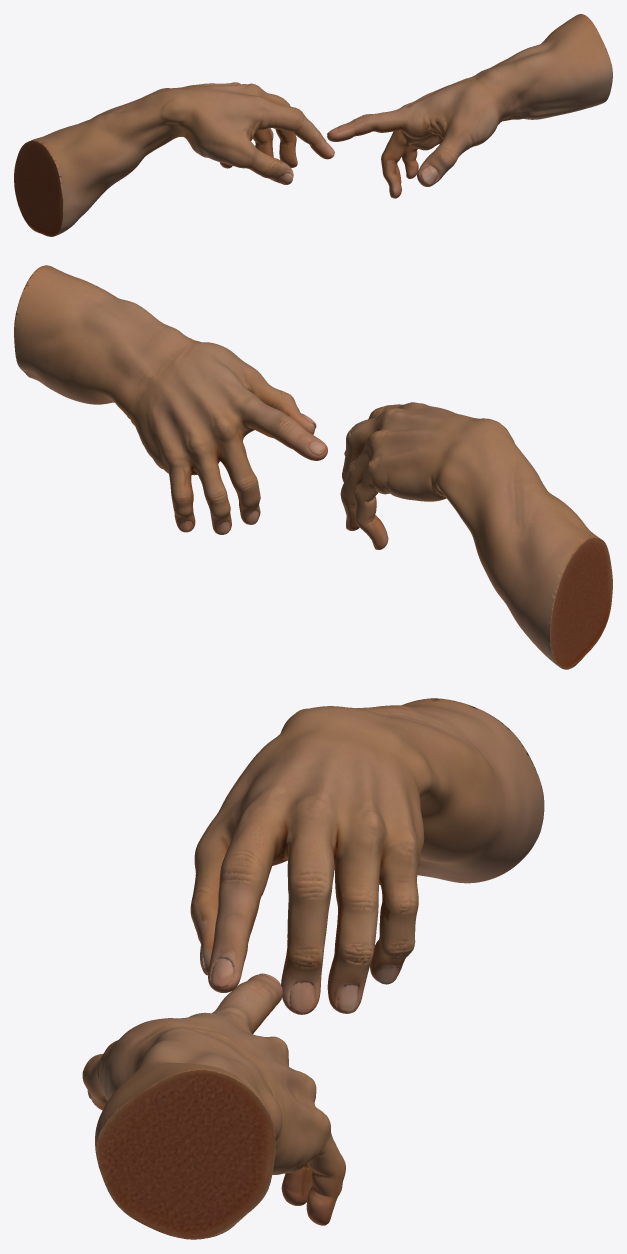
The model's file is hands.glb.
3 renders of one model, top to bottom at view 1: azimuth 30°, elevation 25°; view 2: azimuth 150°, elevation 25°; view 3: azimuth 270°, elevation 25°, orthographic. The views are drawn at different scales.
Visible parts, largest first — view 1: tripo_node_c058bf22-df0b-4e6d-9ef7-296b57f6fa55; view 2: tripo_node_c058bf22-df0b-4e6d-9ef7-296b57f6fa55; view 3: tripo_node_c058bf22-df0b-4e6d-9ef7-296b57f6fa55.
Boxes of the visible parts, x1,y1,x2,y2 form: tripo_node_c058bf22-df0b-4e6d-9ef7-296b57f6fa55: [14, 14, 612, 236]; tripo_node_c058bf22-df0b-4e6d-9ef7-296b57f6fa55: [14, 265, 612, 669]; tripo_node_c058bf22-df0b-4e6d-9ef7-296b57f6fa55: [82, 698, 544, 1239].
Size of the model in its own units: 0.9777 by 0.287 by 0.4012.
Materials: 1 (1 with a texture image).
